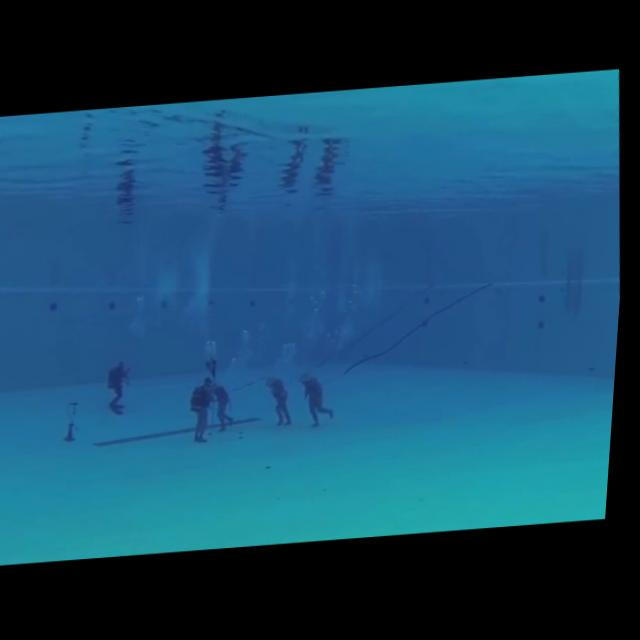human: (295, 366, 349, 436), (187, 369, 227, 447), (101, 354, 144, 422), (264, 368, 304, 433), (212, 374, 249, 439)
